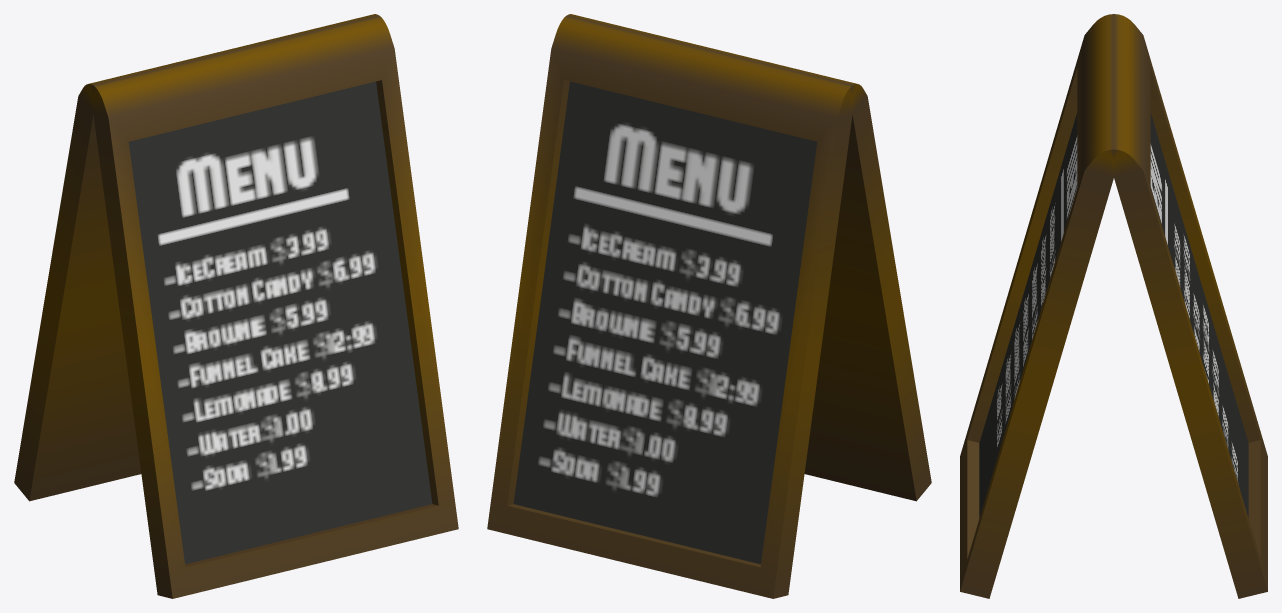
Rendered from Sign D.fbx.
The picture shows the model from 3 angles, left to right: view 1: azimuth 30°, elevation 25°; view 2: azimuth 150°, elevation 25°; view 3: azimuth 270°, elevation 25°; orthographic projection. The views are drawn at different scales.
Visible parts, largest first — view 1: Sign D; view 2: Sign D; view 3: Sign D.
Boxes of the visible parts, x1,y1,x2,y2 form: Sign D: [14, 14, 458, 598]; Sign D: [487, 14, 931, 598]; Sign D: [960, 14, 1267, 598].
Bounding box in the file's own units: 48 × 74.23 × 46.08.
